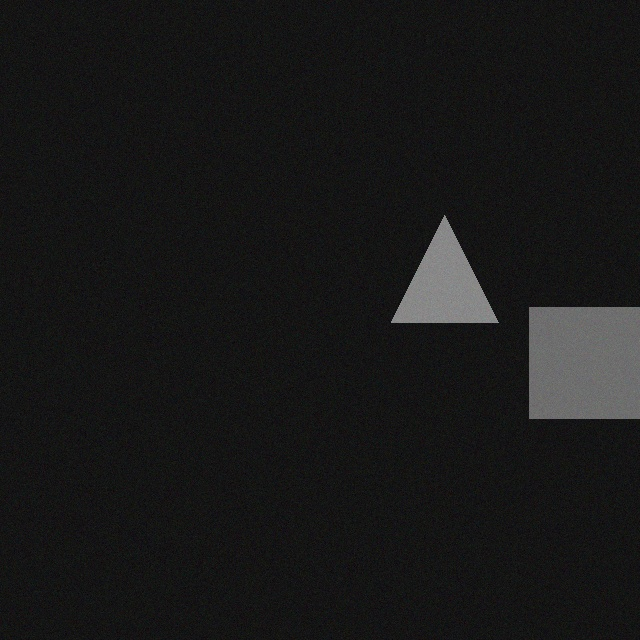square: (514, 318, 625, 429)
triangle: (376, 226, 483, 333)
